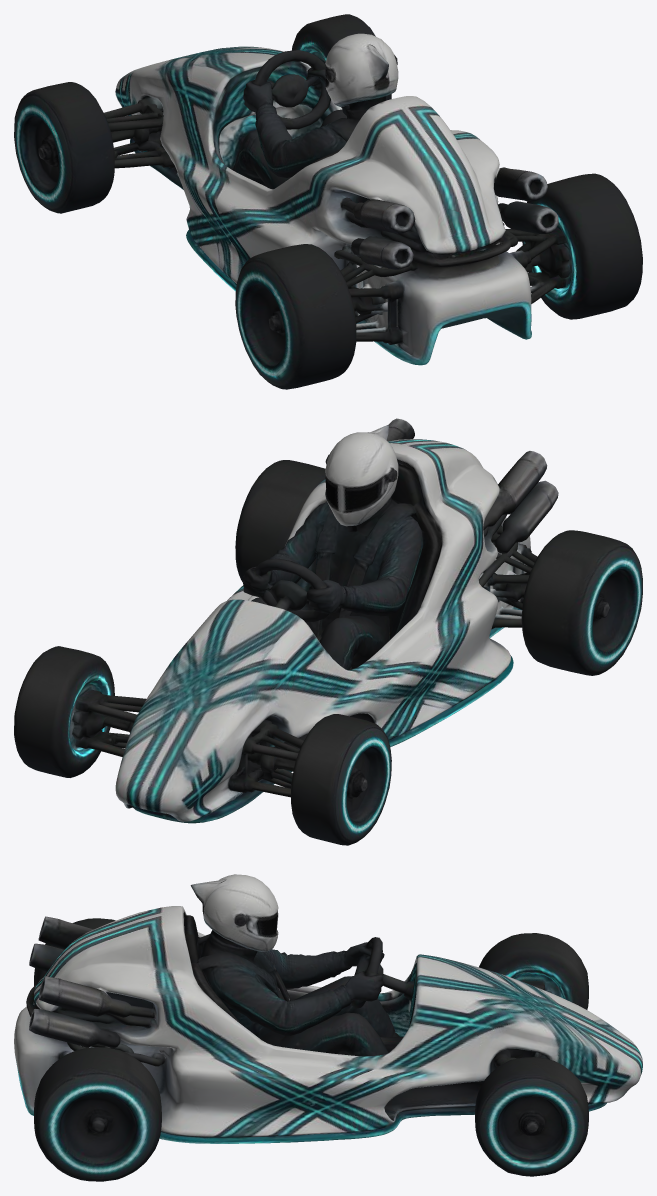
The model's file is loom-final.glb.
3 views of the same model, one above another, from view 1: azimuth 30°, elevation 25°; view 2: azimuth 150°, elevation 25°; view 3: azimuth 270°, elevation 25° (orthographic). The views are drawn at different scales.
Visible parts, largest first — view 1: chassis, wheel-rl, wheel-rr, wheel-fl, wheel-fr; view 2: chassis, wheel-rl, wheel-fl, wheel-fr, wheel-rr; view 3: chassis, wheel-rr, wheel-fr, wheel-fl, wheel-rl.
Boxes of the visible parts, bbox=[...] form: chassis: bbox=[104, 33, 558, 365]; wheel-rl: bbox=[235, 244, 356, 389]; wheel-rr: bbox=[522, 173, 642, 319]; wheel-fl: bbox=[14, 82, 114, 213]; wheel-fr: bbox=[292, 14, 391, 100]; chassis: bbox=[86, 418, 558, 823]; wheel-rl: bbox=[521, 530, 642, 675]; wheel-fl: bbox=[291, 714, 391, 845]; wheel-fr: bbox=[14, 646, 114, 777]; wheel-rr: bbox=[235, 460, 325, 582]; chassis: bbox=[14, 874, 642, 1143]; wheel-rr: bbox=[34, 1047, 161, 1181]; wheel-fr: bbox=[475, 1057, 588, 1176]; wheel-fl: bbox=[479, 933, 588, 1009]; wheel-rl: bbox=[34, 918, 115, 985].
Bounding box in the file's own units: 2.66 × 1.81 × 4.5.
1 material, 1 textured.
